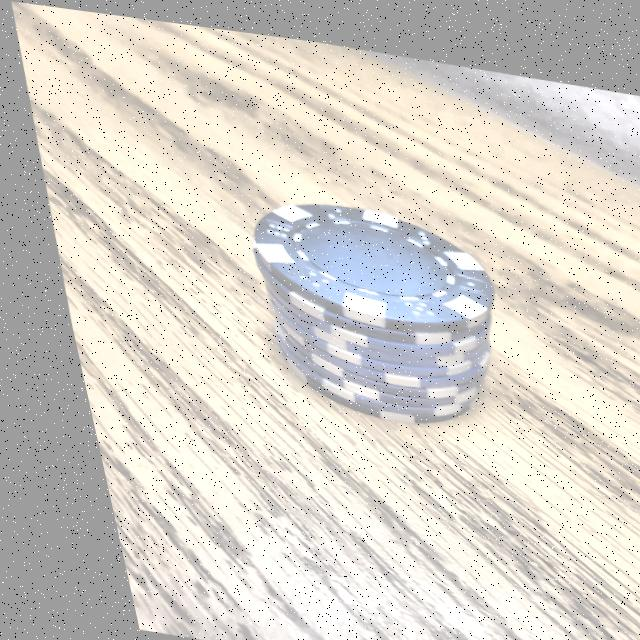Chip: (216, 159, 536, 460)
